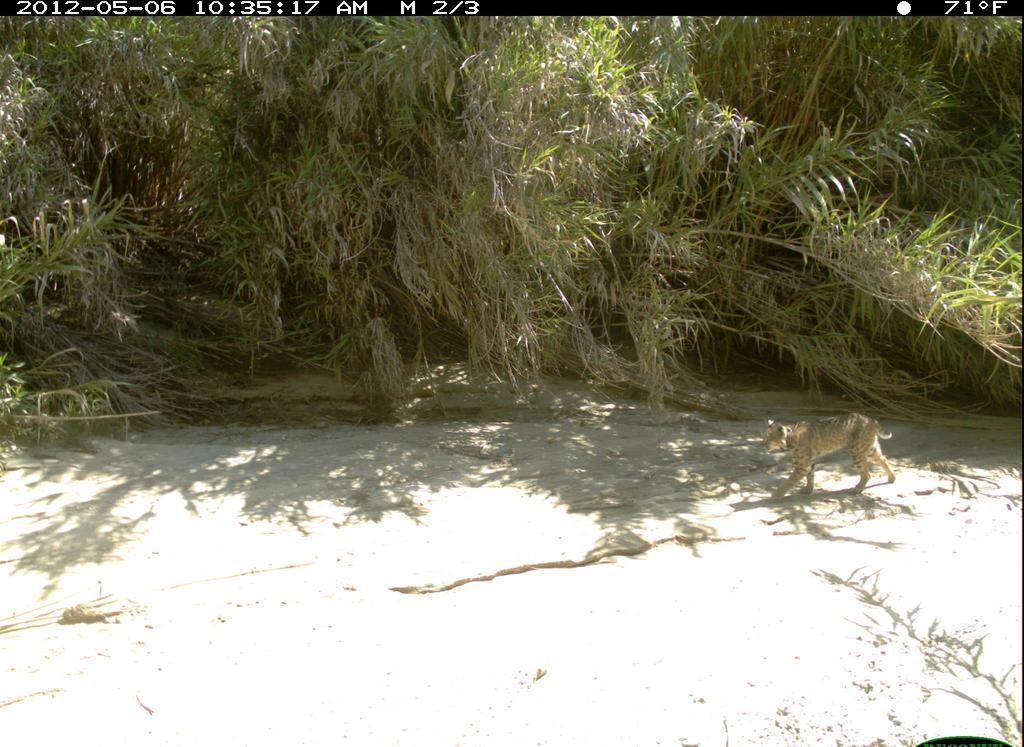bobcat: (759, 404, 907, 504)
